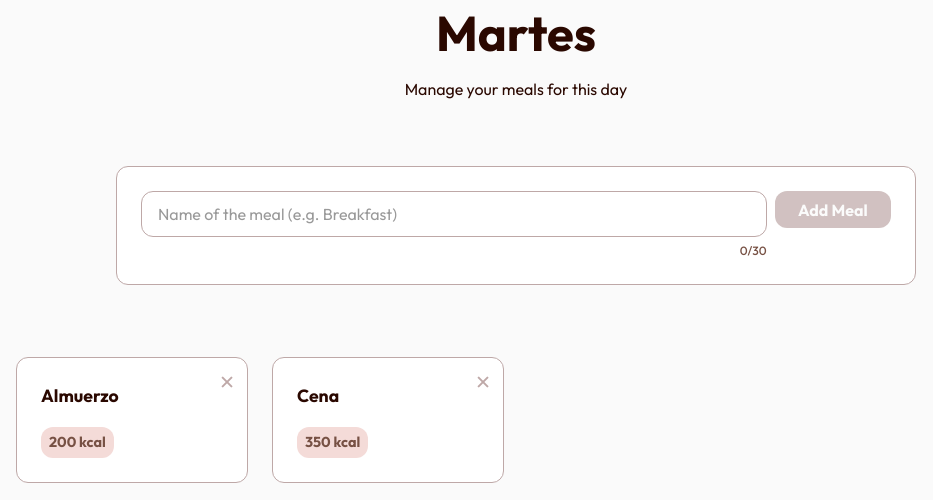
Test case: DayItem - Meals Management (Integration) › debe crear una nueva comida correctamente y actualizar la lista
Note: Escribir nombre válido
Type "Merienda" into the field with placeholder "Name of the meal (e.g. Breakfast)". click: x=454, y=214
box: [141,191,767,237]
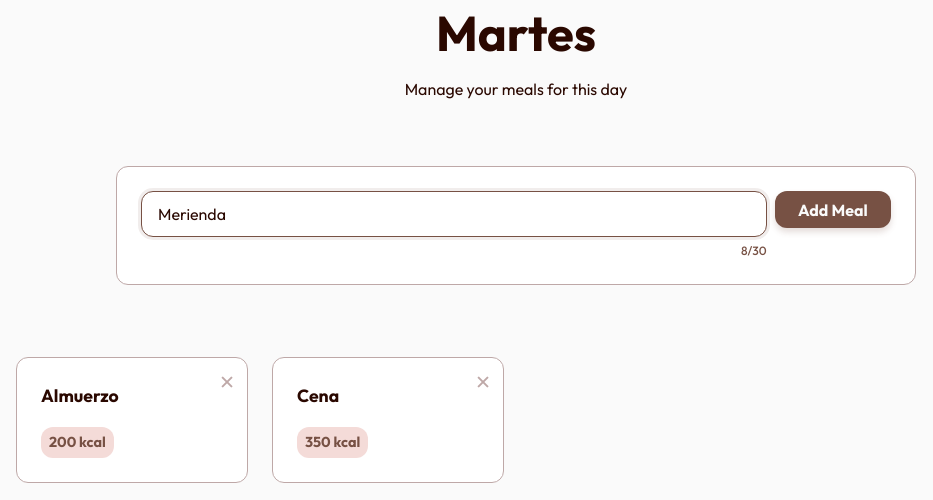
Check: the button "Add Meal" is enabled
Click the button "Add Meal". click: x=833, y=210
box: [775,191,891,228]
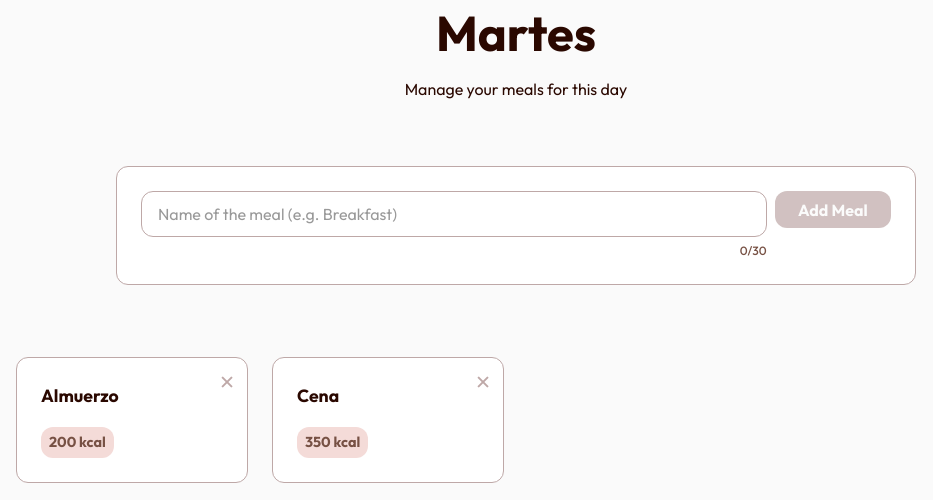
Check: the field with placeholder "Name of the meal (e.g. Breakfast)" is empty, box [141,191,767,237]
